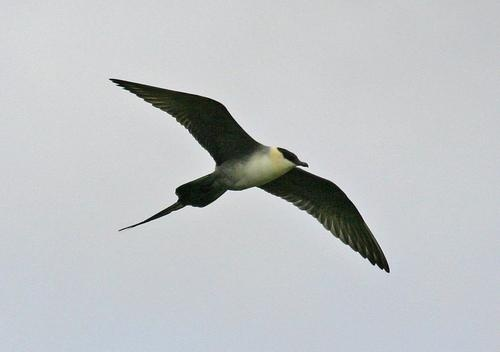bird: (102, 72, 392, 272)
